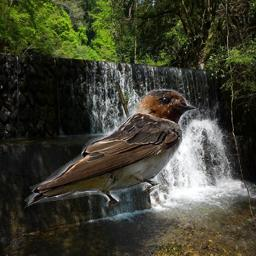Swallow: (24, 87, 196, 212)
